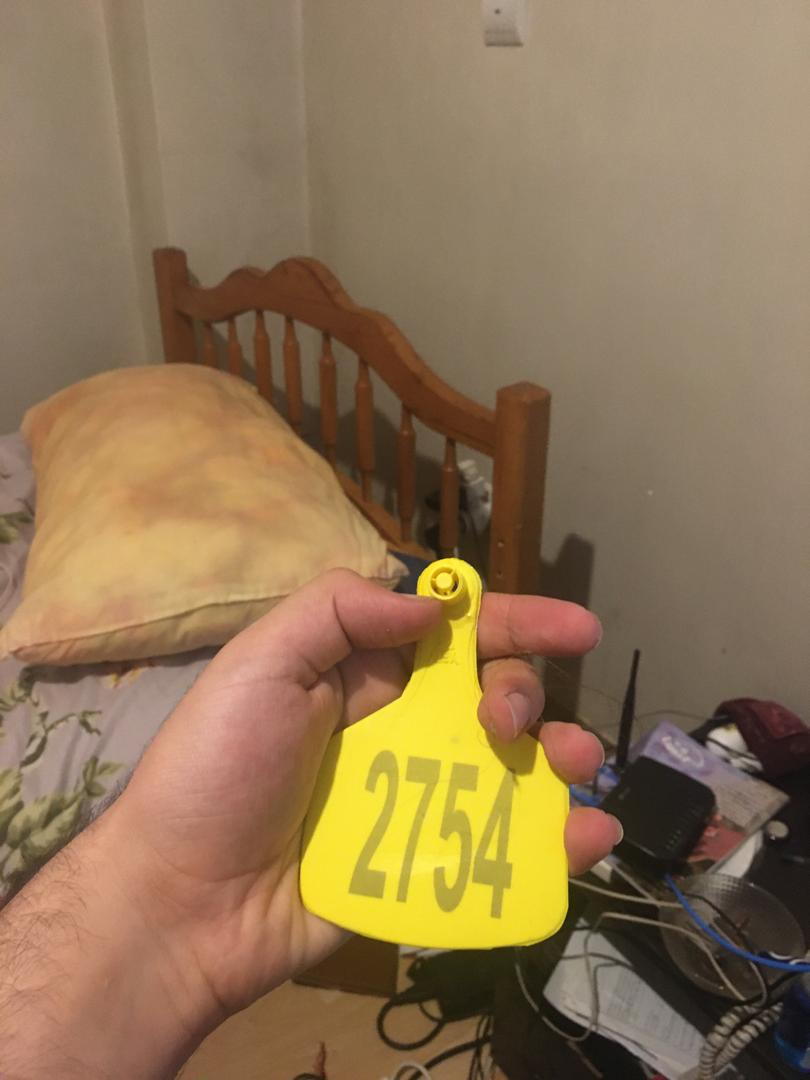digit: (346, 746, 517, 920)
